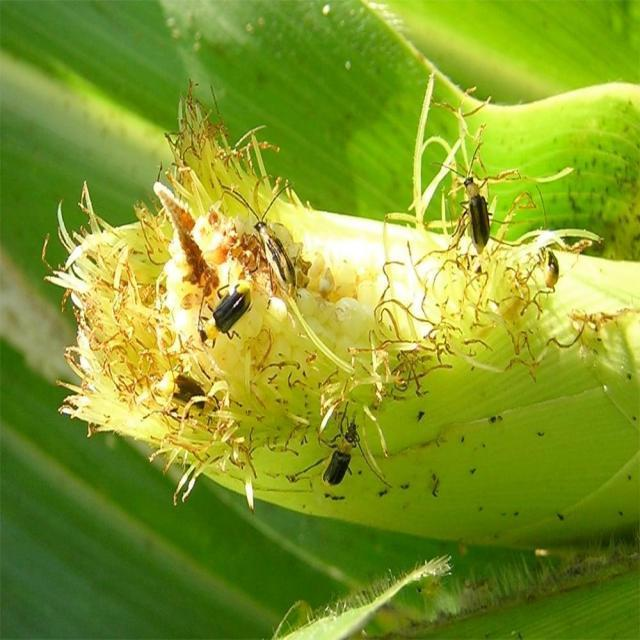trips: (225, 186, 319, 302), (438, 144, 516, 269), (191, 272, 264, 344), (316, 415, 377, 498), (158, 360, 220, 418), (532, 234, 569, 303)
